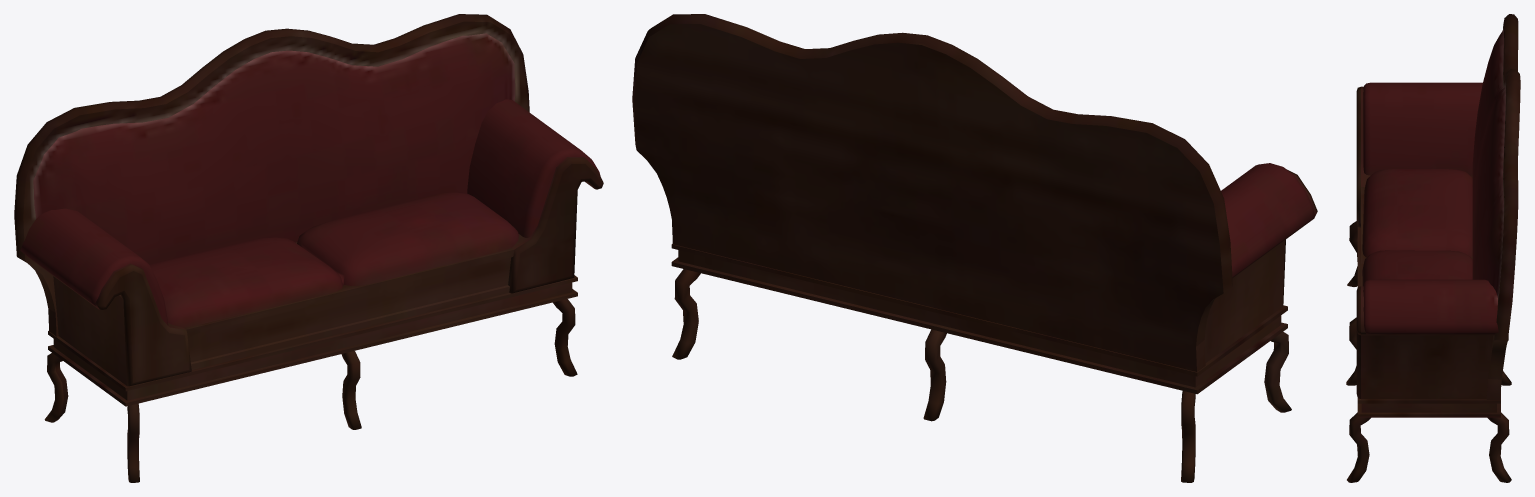
The model's file is SM_Sofa_eae8c6.glb.
The picture shows the model from 3 angles, left to right: view 1: azimuth 30°, elevation 25°; view 2: azimuth 150°, elevation 25°; view 3: azimuth 270°, elevation 25°; orthographic projection. The views are drawn at different scales.
Size of the model in its own units: 1.6 by 0.9893 by 0.5131.
Materials: 1 (1 with a texture image).
